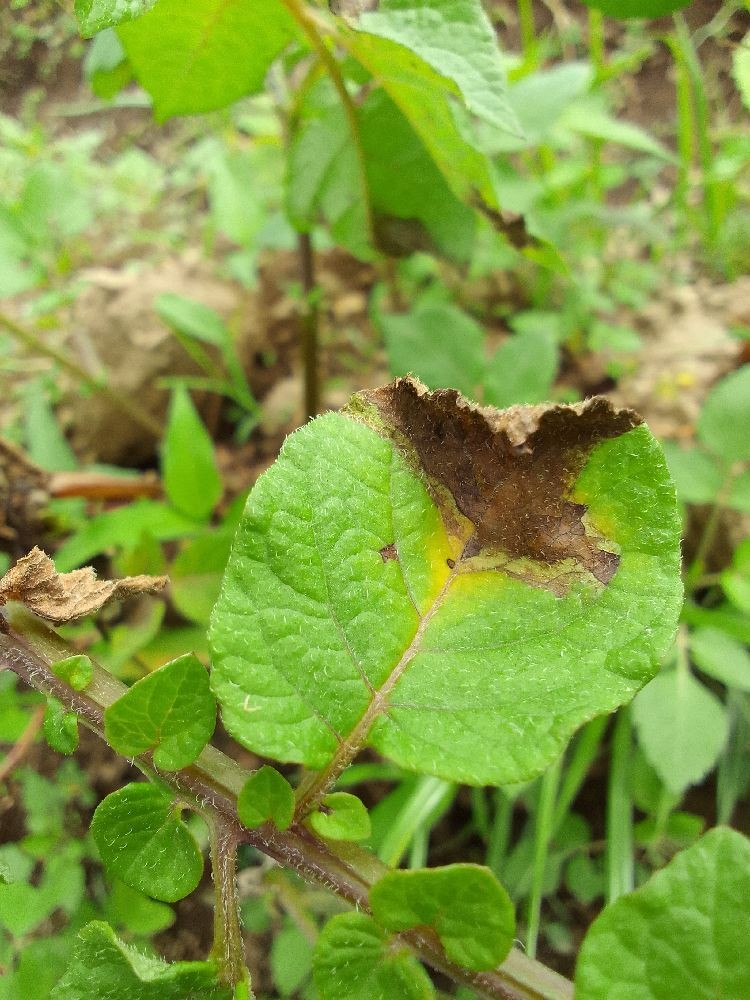late_blight: (0, 0, 194, 181), (520, 856, 618, 1000), (668, 491, 750, 619)
